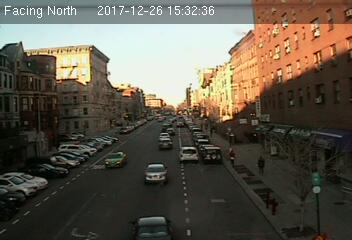car: (144, 162, 167, 184), (175, 146, 199, 163), (105, 151, 127, 168), (203, 147, 222, 162), (158, 138, 173, 149), (165, 127, 176, 136)
